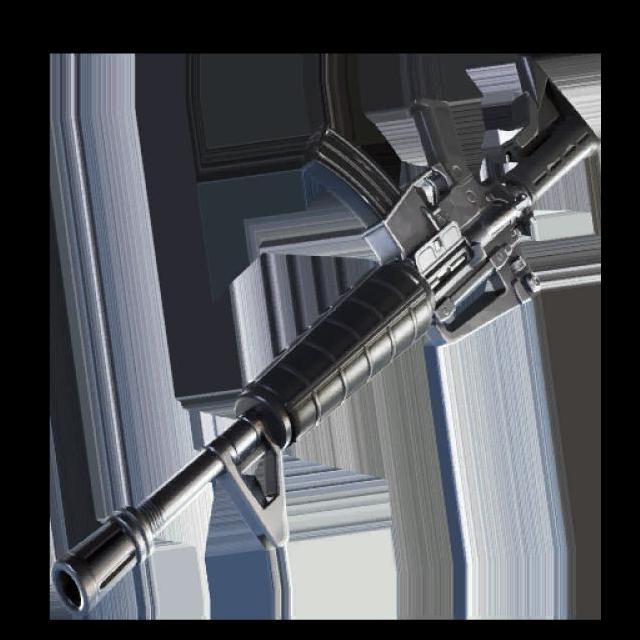rifle: (44, 46, 601, 628)
